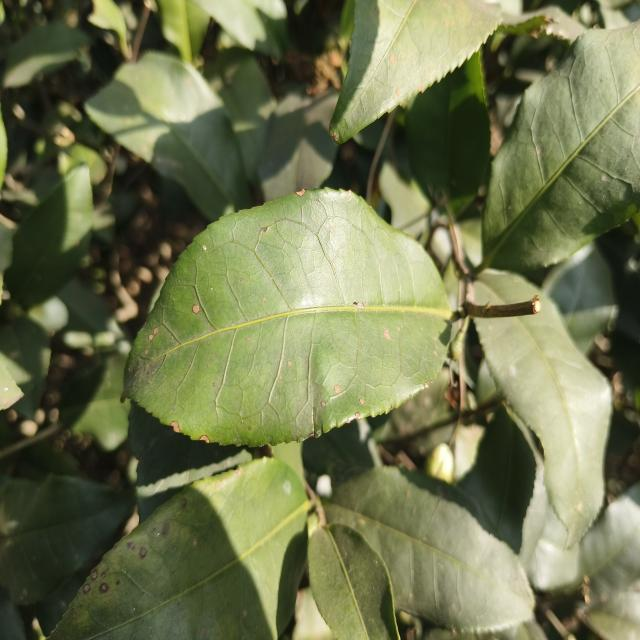Leaf: (124, 189, 451, 446), (51, 458, 309, 640), (480, 23, 640, 271), (474, 270, 612, 546), (325, 466, 534, 631), (85, 51, 250, 221), (329, 0, 501, 143), (0, 474, 134, 604), (129, 404, 251, 520), (406, 51, 490, 213), (4, 165, 93, 308), (458, 405, 536, 553), (308, 524, 399, 640), (204, 48, 276, 184), (258, 89, 338, 201), (543, 244, 618, 353), (579, 483, 640, 596), (59, 354, 130, 451), (3, 21, 90, 87), (193, 0, 287, 59), (0, 316, 51, 417), (156, 0, 210, 63)
